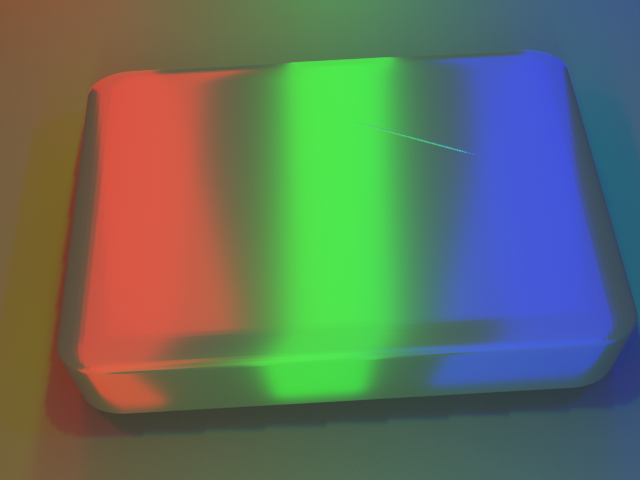scratch: (205, 38, 602, 255)
